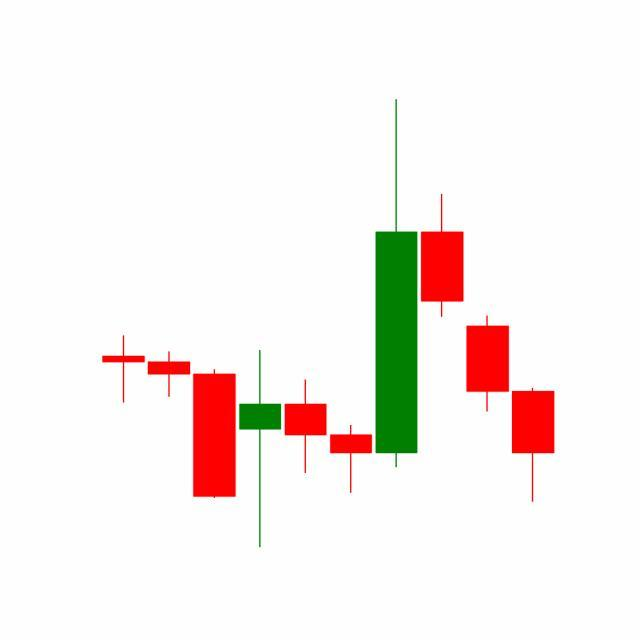Hikkake Pattern: (283, 99, 512, 498)
